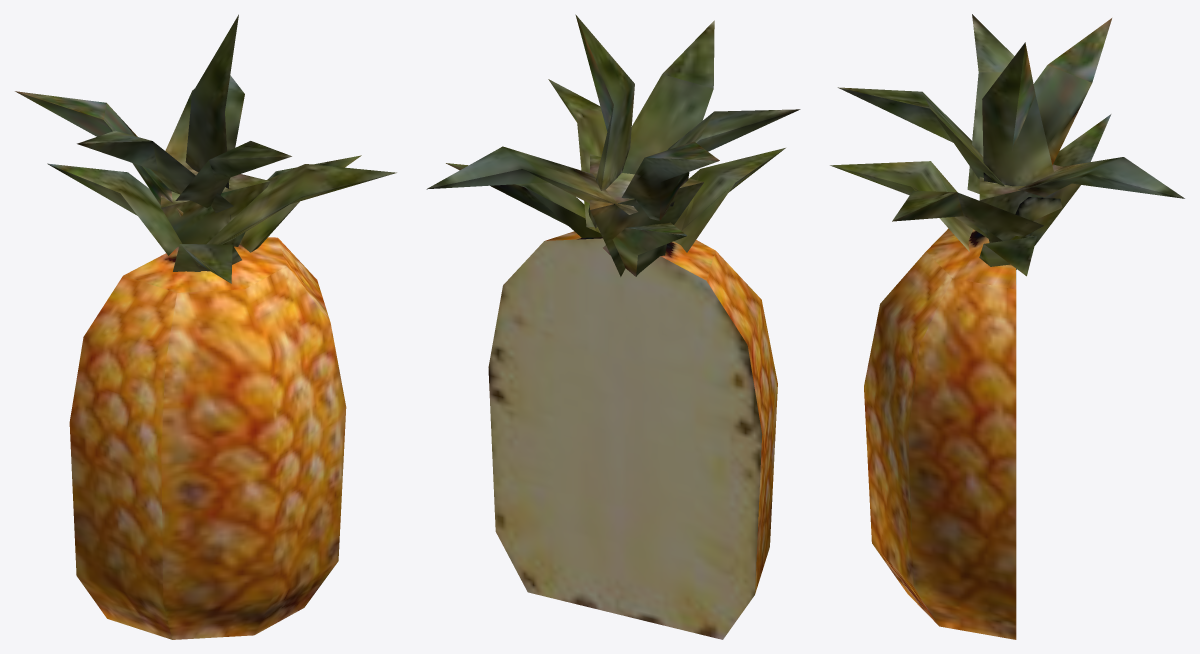
File: Pineapple_01.glb
The picture shows the model from 3 angles, left to right: view 1: azimuth 30°, elevation 25°; view 2: azimuth 150°, elevation 25°; view 3: azimuth 270°, elevation 25°; orthographic projection. The views are drawn at different scales.
Visible parts, largest first — view 1: Pineapple_01; view 2: Pineapple_01; view 3: Pineapple_01.
Part boxes in pixels (x1=…): Pineapple_01: x1=15, y1=14, x2=396, y2=639; Pineapple_01: x1=426, y1=14, x2=800, y2=639; Pineapple_01: x1=830, y1=14, x2=1184, y2=639.
Bounding box in the file's own units: 0.3244 × 0.5633 × 0.3173.
Materials: 1 (1 with a texture image).
